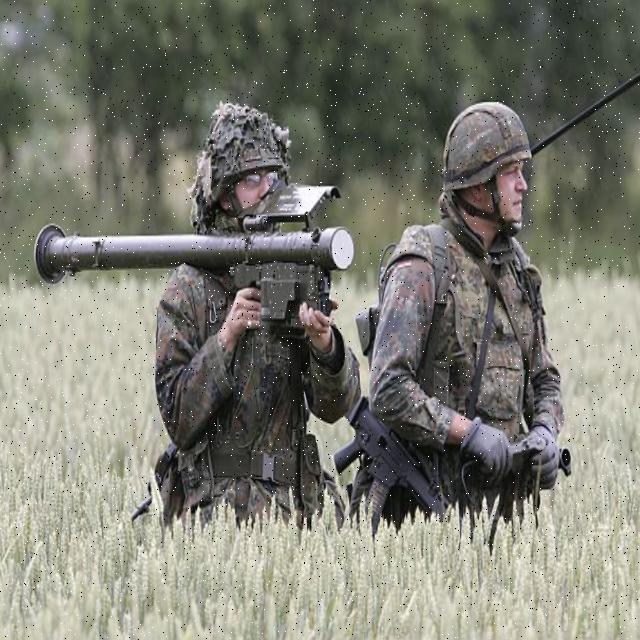bazooka: (28, 211, 358, 295)
